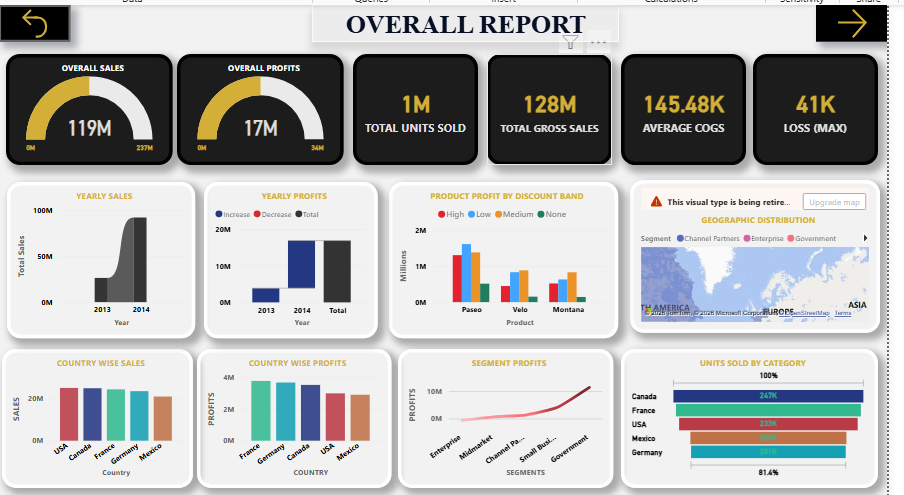

What the dashboard file says about the page in this screenshot:
{"tool":"powerbi","page":{"name":"OVERALL","canvas":[1280,720],"ordinal":1},"visuals":[{"type":"gauge","title":"OVERALL SALES","fields":{"Y":["Sum(Sheet1.Sales)"]},"box":[10.1,70,240,160],"z":0},{"type":"gauge","title":"OVERALL PROFITS","fields":{"Y":["Sum(Sheet1.Profit)"]},"box":[256.3,70.6,240.5,159.8],"z":1000},{"type":"clusteredColumnChart","title":"COUNTRY WISE SALES","fields":{"Category":["Sheet1.Country"],"Y":["Sum(Sheet1.Sales)"]},"box":[5,495,275,200],"z":2000},{"type":"clusteredColumnChart","title":"COUNTRY WISE PROFITS","fields":{"Category":["Sheet1.Country"],"Y":["Sum(Sheet1.Profit)"]},"box":[285,495,280,200],"z":3000},{"type":"card","fields":{"Values":["Sum(Sheet1.Units Sold)"]},"box":[510.2,70.9,180,160.2],"z":4000},{"type":"filledMap","title":"GEOGRAPHIC DISTRIBUTION","fields":{"Category":["Sheet1.Country"],"Series":["Sheet1.Segment"]},"box":[909,252.7,360,220],"z":5000},{"type":"clusteredColumnChart","title":"PRODUCT PROFIT BY DISCOUNT BAND","fields":{"Y":["Sum(Sheet1.Profit)"],"Series":["Sheet1.Discount Band"],"Category":["Sheet1.Product"]},"box":[561.6,255,330,225],"z":6000},{"type":"ribbonChart","title":"YEARLY SALES","fields":{"Category":["Sheet1.Year"],"Y":["Sum(Sheet1.Sales)"]},"box":[11.5,255,270.7,225],"z":7000},{"type":"waterfallChart","title":"YEARLY PROFITS","fields":{"Y":["Sum(Sheet1.Profit)"],"Category":["Sheet1.Year"]},"box":[294.8,255.1,250,225],"z":8000},{"type":"lineChart","title":"SEGMENT PROFITS","fields":{"Category":["Sheet1.Segment"],"Y":["Sum(Sheet1.Profit)"]},"box":[575,495,310,200],"z":9000},{"type":"card","fields":{"Values":["Sum(Sheet1.Gross Sales)"]},"box":[703,70.9,180,160.2],"z":10000},{"type":"funnel","title":"UNITS SOLD BY CATEGORY","fields":{"Y":["Sum(Sheet1.Units Sold)"],"Category":["Sheet1.Country","Sheet1.Segment","Sheet1.Product"]},"box":[895,495,370,200.2],"z":11000},{"type":"textbox","box":[450,0,441.7,53.3],"z":12000},{"type":"card","fields":{"Values":["Avg(Sheet1.COGS)"]},"box":[895.7,70,180,160],"z":13000},{"type":"card","fields":{"Values":["Max(Sheet1.LOSS)"]},"box":[1085.8,70.6,180,160],"z":14000},{"type":"actionButton","box":[1176.5,0,103.7,53.3],"z":15000},{"type":"actionButton","box":[0,0,103,53],"z":17000}]}

Visuals, with their boxes in screenshot pixels (x1, y1, x2, y2):
"OVERALL SALES" gauge: 0, 49, 169, 161
"OVERALL PROFITS" gauge: 173, 50, 342, 162
"COUNTRY WISE SALES" clusteredColumnChart: 0, 348, 190, 488
"COUNTRY WISE PROFITS" clusteredColumnChart: 193, 348, 390, 488
card - Sum(Sheet1.Units Sold): 351, 50, 477, 162
"GEOGRAPHIC DISTRIBUTION" filledMap: 631, 177, 884, 332
"PRODUCT PROFIT BY DISCOUNT BAND" clusteredColumnChart: 387, 179, 619, 337
"YEARLY SALES" ribbonChart: 1, 179, 191, 337
"YEARLY PROFITS" waterfallChart: 200, 179, 375, 337
"SEGMENT PROFITS" lineChart: 397, 348, 614, 488
card - Sum(Sheet1.Gross Sales): 486, 50, 613, 162
"UNITS SOLD BY CATEGORY" funnel: 621, 348, 881, 488
textbox: 309, 0, 619, 37
card - Avg(Sheet1.COGS): 622, 49, 748, 161
card - Max(Sheet1.LOSS): 755, 50, 882, 162
actionButton: 819, 0, 892, 37
actionButton: 0, 0, 65, 37
